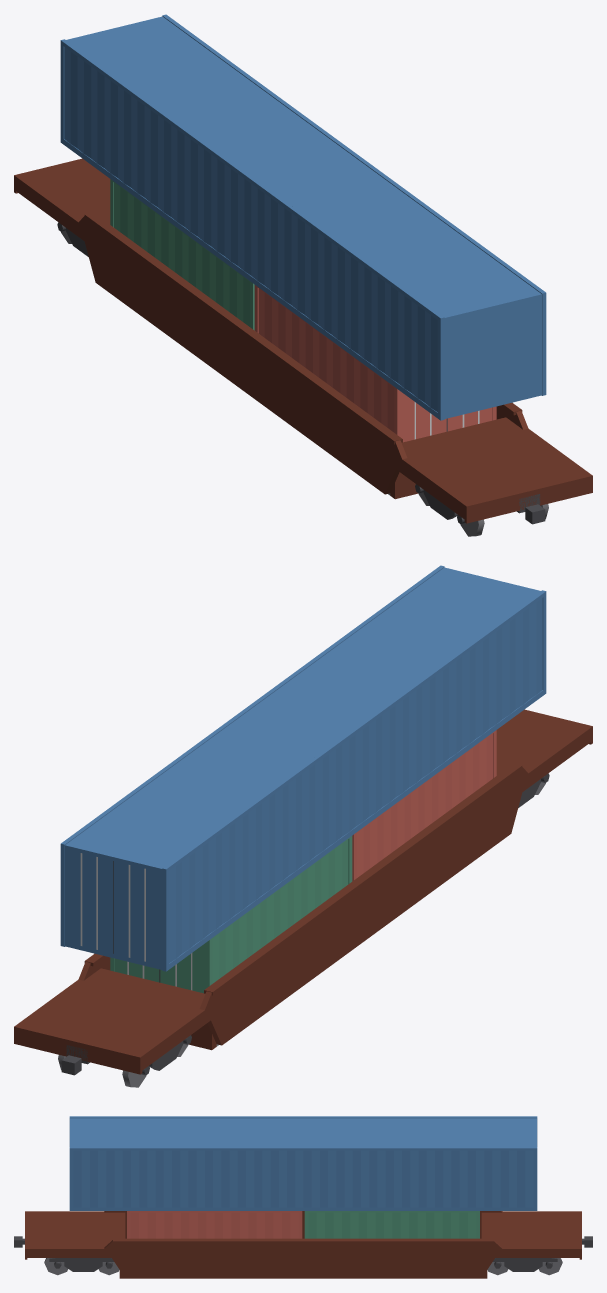
File: wagon.fbx
3 renders of one model, top to bottom at view 1: azimuth 30°, elevation 25°; view 2: azimuth 150°, elevation 25°; view 3: azimuth 270°, elevation 25°, orthographic. The views are drawn at different scales.
Visible parts, largest first — view 1: 22_wagon; view 2: 22_wagon; view 3: 22_wagon.
Boxes of the visible parts, <box> form: 22_wagon: <box>14,14,592,536</box>; 22_wagon: <box>14,565,592,1087</box>; 22_wagon: <box>14,1116,592,1278</box>.
Size of the model in its own units: 3.14 by 5.05 by 20.
